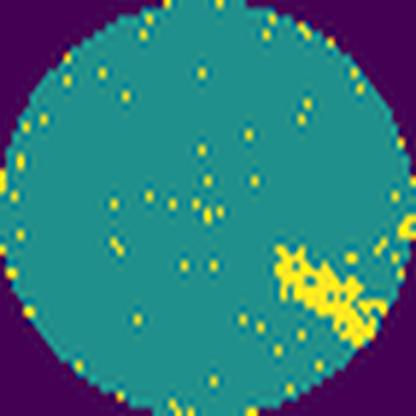Loc: (271, 241, 386, 346)
